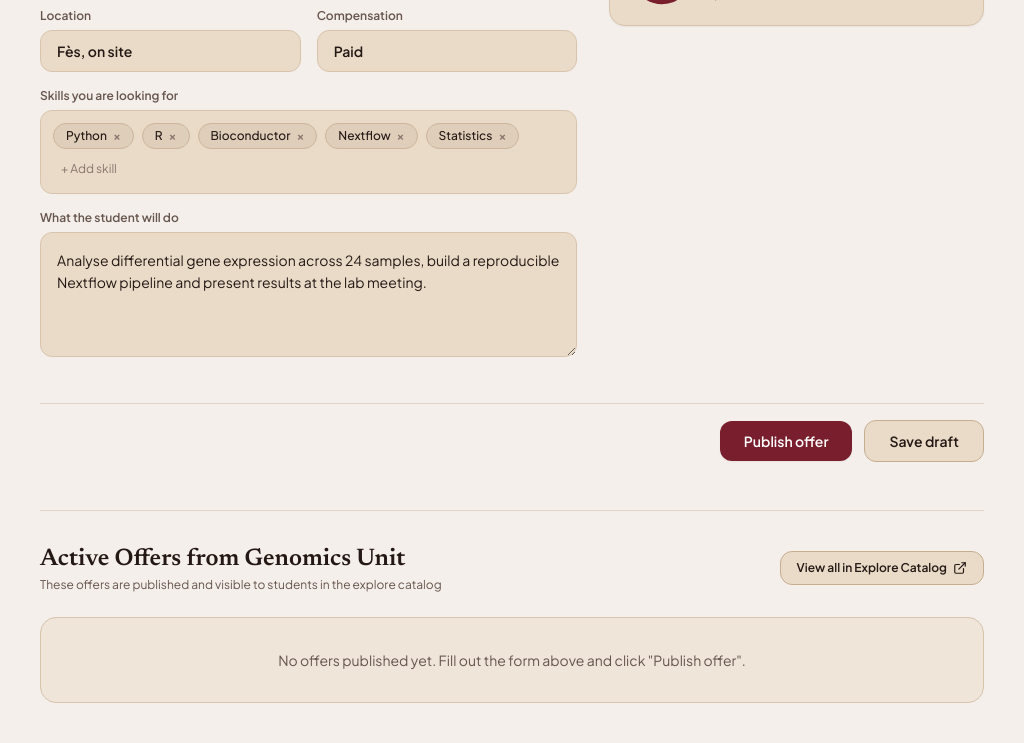
Test case: LabPostOfferPage › submits published offer to backend API when clicking Publish offer
(page scrolled)
Click the button "Publish offer" at [786, 440], box x1=720 y1=420 x2=852 y2=460
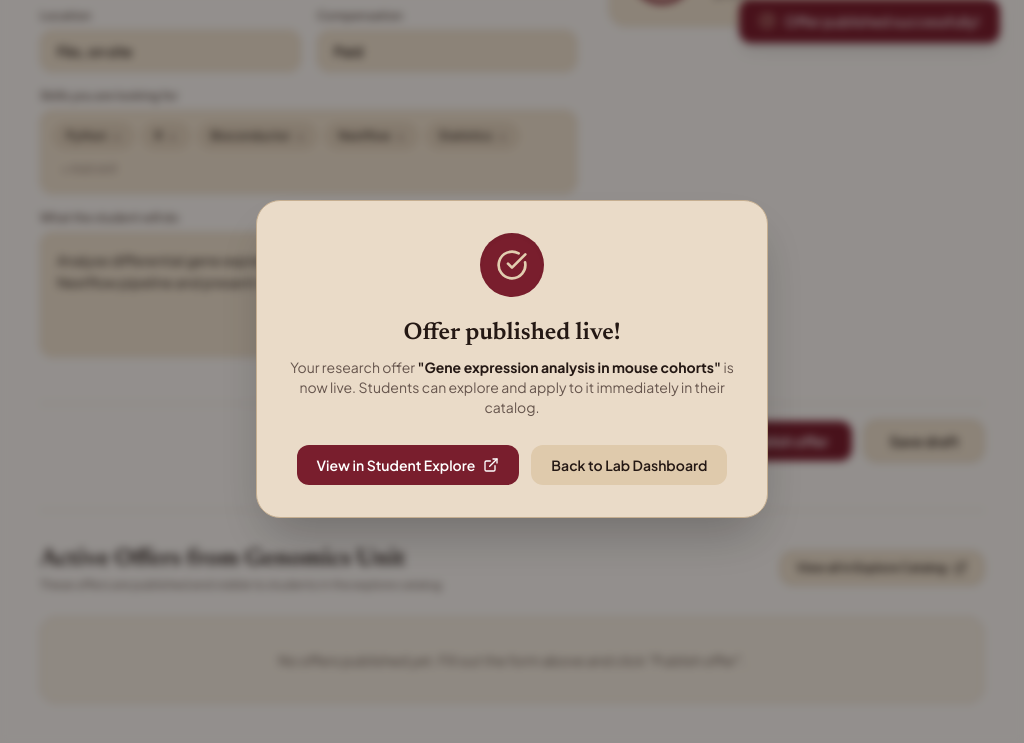
Expected: the heading "Offer published live!" is shown, x1=403 y1=321 x2=620 y2=345
Expected: the text "View in Student Explore" is shown, x1=317 y1=455 x2=475 y2=475
